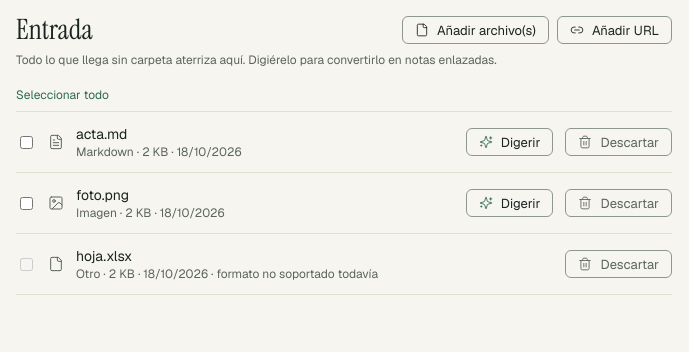
Test case: InboxView › Añadir URL › does not submit an empty url
Click the button with test id "add-url" at (614, 30), box [557, 16, 672, 44]
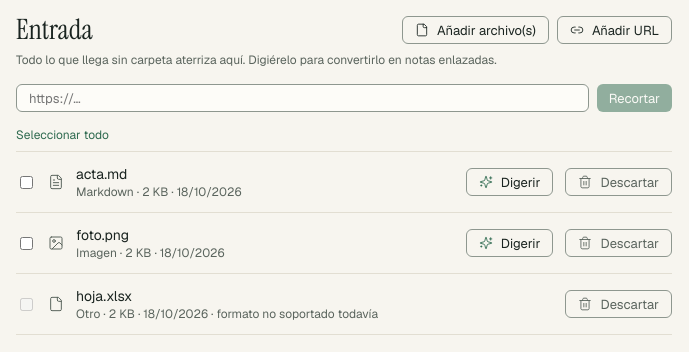
Expected: the button with test id "clip-url-submit" is disabled, [597, 84, 672, 112]
